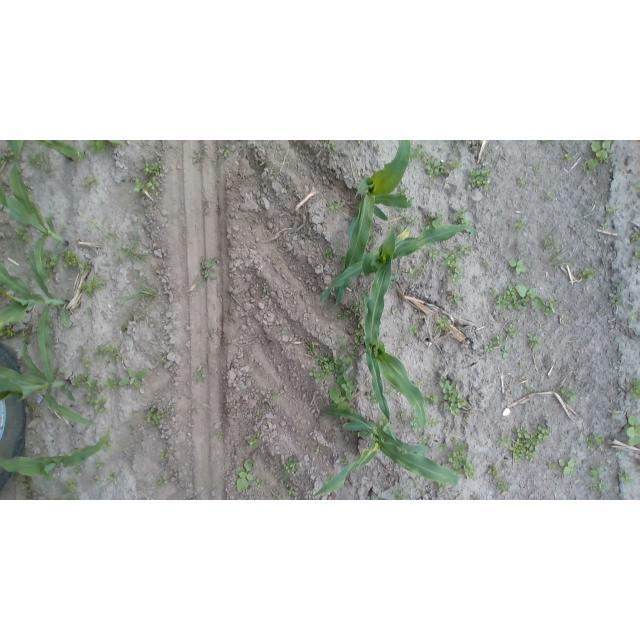Maize: (309, 408, 463, 501), (333, 140, 419, 306), (319, 223, 482, 308), (358, 255, 429, 434), (0, 327, 100, 428), (1, 162, 72, 287), (1, 243, 74, 352), (0, 426, 114, 482), (0, 141, 88, 176)
Weeds: (507, 425, 551, 468), (490, 284, 547, 312), (445, 444, 480, 481), (82, 212, 122, 244), (437, 376, 467, 415), (115, 238, 153, 268), (317, 356, 356, 380), (583, 141, 613, 172), (441, 249, 467, 284), (486, 463, 515, 494), (89, 341, 128, 363), (465, 165, 495, 193), (118, 283, 158, 304), (326, 387, 357, 412), (233, 457, 255, 492), (250, 156, 283, 179), (118, 368, 151, 390), (80, 275, 107, 300), (198, 258, 219, 290), (425, 154, 448, 183), (26, 149, 51, 175), (133, 178, 163, 199), (550, 247, 583, 266), (84, 140, 129, 153), (337, 373, 357, 402), (80, 174, 109, 194), (584, 428, 605, 455), (139, 161, 165, 180), (626, 414, 640, 448), (558, 456, 579, 478), (617, 468, 639, 489), (42, 249, 62, 272), (398, 211, 426, 227), (411, 479, 432, 500), (12, 223, 31, 244), (17, 478, 36, 499), (146, 405, 167, 424), (433, 316, 454, 335), (86, 394, 108, 412), (246, 431, 266, 450), (559, 384, 577, 405), (282, 457, 303, 475), (542, 298, 561, 317), (540, 233, 559, 252), (406, 267, 430, 282), (324, 198, 345, 215), (507, 259, 529, 275), (63, 250, 81, 269), (354, 324, 366, 352), (102, 377, 123, 393), (587, 461, 605, 479), (86, 378, 103, 397), (427, 247, 444, 265), (494, 432, 510, 451), (217, 146, 233, 165), (423, 416, 443, 431), (580, 267, 601, 281), (62, 478, 79, 495), (428, 212, 446, 228), (453, 243, 475, 256), (309, 368, 324, 387), (512, 219, 532, 233), (629, 377, 640, 402), (350, 300, 367, 316), (423, 391, 439, 408), (197, 363, 208, 387), (305, 341, 320, 358), (447, 292, 464, 307), (0, 322, 18, 336), (69, 375, 87, 389), (391, 489, 413, 500), (455, 208, 470, 224), (321, 140, 338, 154), (323, 246, 336, 264), (368, 391, 381, 409), (593, 481, 610, 494), (527, 331, 540, 348), (448, 159, 465, 172), (406, 148, 423, 161), (610, 293, 625, 307), (523, 384, 538, 398), (561, 152, 580, 163), (192, 147, 203, 166), (155, 475, 171, 488), (313, 444, 326, 460), (506, 322, 518, 339), (411, 418, 422, 436), (116, 319, 130, 333), (541, 190, 556, 203), (499, 344, 511, 360), (379, 417, 392, 431), (626, 310, 640, 323), (283, 482, 297, 495), (84, 358, 93, 378), (614, 448, 630, 459), (22, 327, 33, 343), (95, 457, 106, 473), (277, 323, 290, 336), (214, 430, 227, 443), (516, 176, 529, 189), (340, 341, 352, 355), (493, 333, 505, 347), (406, 324, 420, 336), (78, 261, 94, 271), (159, 448, 169, 464), (437, 442, 450, 454), (416, 437, 430, 448), (629, 229, 640, 243), (105, 471, 117, 483), (415, 378, 426, 391), (610, 409, 621, 422), (77, 346, 88, 359), (255, 476, 266, 489), (270, 387, 281, 400), (633, 245, 640, 264), (261, 284, 272, 296), (435, 481, 447, 492), (134, 312, 147, 322), (191, 403, 201, 416), (383, 387, 393, 400), (398, 408, 411, 418), (134, 140, 150, 148), (338, 455, 349, 466), (102, 438, 112, 450), (271, 492, 286, 500), (162, 354, 171, 367), (338, 255, 347, 268), (356, 431, 369, 440), (367, 231, 377, 242), (238, 380, 248, 391), (335, 333, 345, 344), (339, 309, 350, 319), (533, 162, 543, 173), (406, 195, 416, 206), (397, 187, 407, 197), (371, 141, 381, 151), (479, 258, 488, 269), (606, 206, 615, 217), (485, 342, 494, 352), (86, 305, 95, 315), (470, 492, 481, 500), (518, 360, 527, 369), (419, 224, 431, 230), (397, 224, 406, 232), (601, 220, 608, 230), (255, 412, 263, 420), (73, 466, 81, 474), (635, 464, 640, 476), (352, 140, 361, 146)
